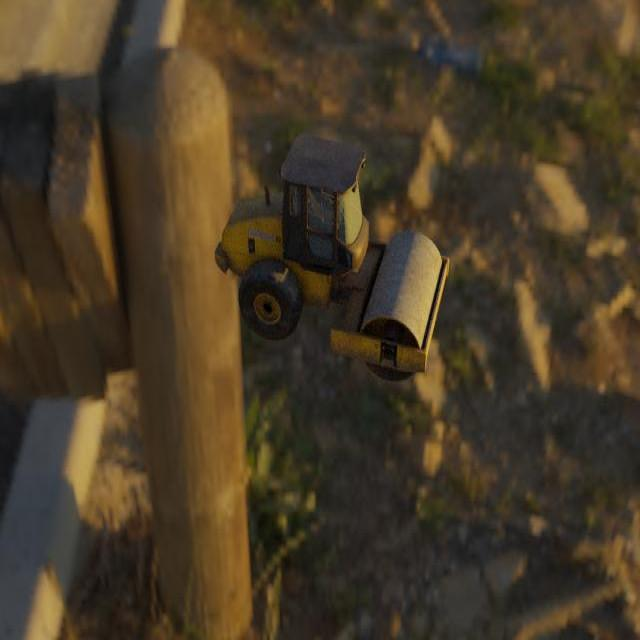Roller: (214, 133, 449, 383)
